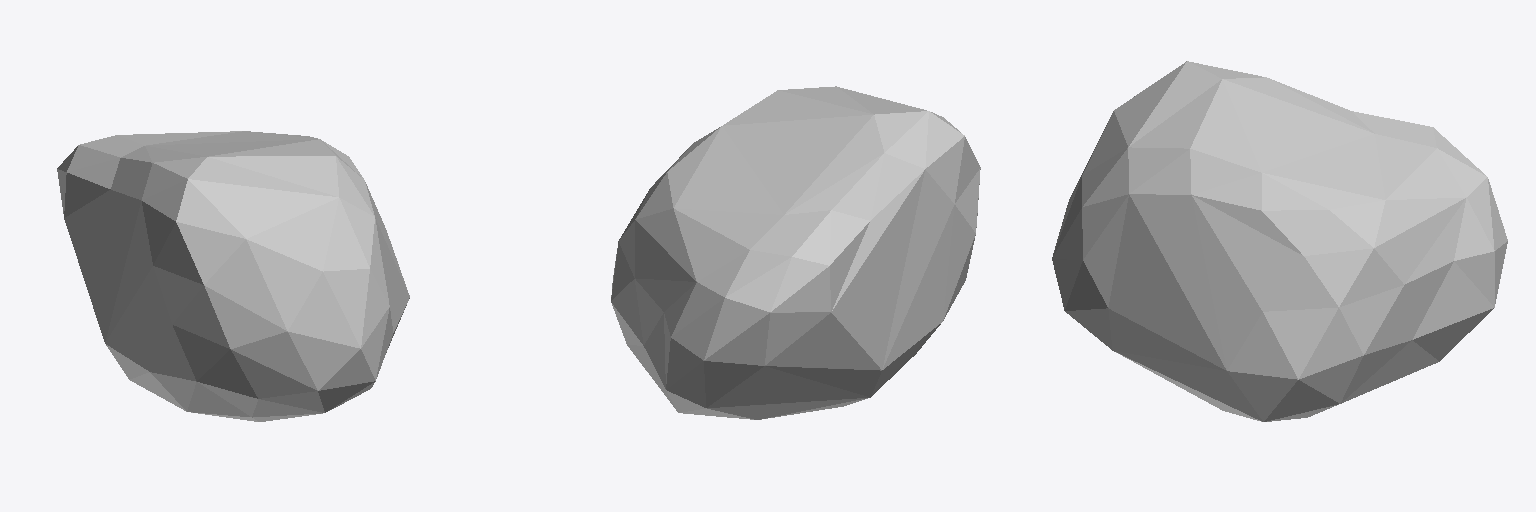
The model's file is rock1.obj.
3 views of the same model, side by side, from view 1: azimuth 30°, elevation 25°; view 2: azimuth 150°, elevation 25°; view 3: azimuth 270°, elevation 25° (orthographic).
Parts seen in each view (by area): view 1: GeoSphere001; view 2: GeoSphere001; view 3: GeoSphere001.
Part boxes in pixels (left/top/right/bottom): GeoSphere001: left=57, top=131, right=409, bottom=421; GeoSphere001: left=611, top=86, right=980, bottom=419; GeoSphere001: left=1052, top=61, right=1507, bottom=421.
Size of the model in its own units: 1.05 by 0.9569 by 1.42.